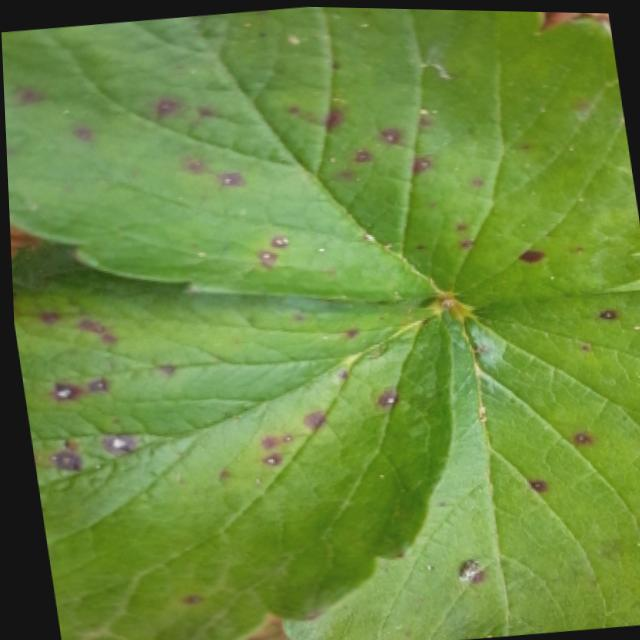Leaf Spot: (1, 5, 640, 304), (10, 270, 448, 640), (273, 285, 640, 640)
